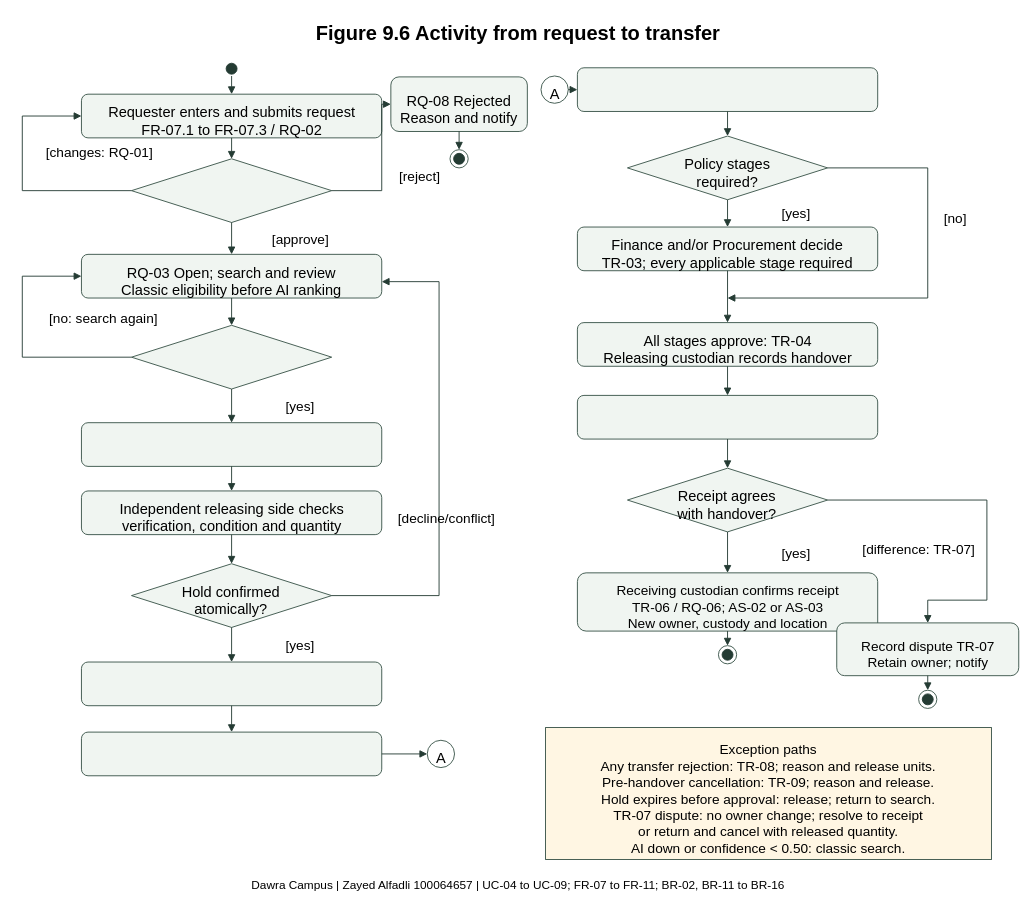
Some shapes in this 1035 by 908 pixel diagram are drawn without their labels. The shapes that lost their labels are listed below. From the top down, each one's centre as x and y in pixels, then its label:
At pixel 727 89: "Department release then receipt approval TR-01 to TR-02".
At pixel 231 190: "Department decision?".
At pixel 231 356: "Eligible item chosen?".
At pixel 727 416: "TR-05 / AS-05 Releasing department still owns asset".
At pixel 231 444: "Requester requests reservation RV-01 / RQ-04; no hold yet".
At pixel 231 683: "RV-02; held for proposed 5 working days Selecting a match was not approval".
At pixel 231 753: "Proceed to transfer: RV-04 / TR-01 RQ-05; hold deadline retained".
